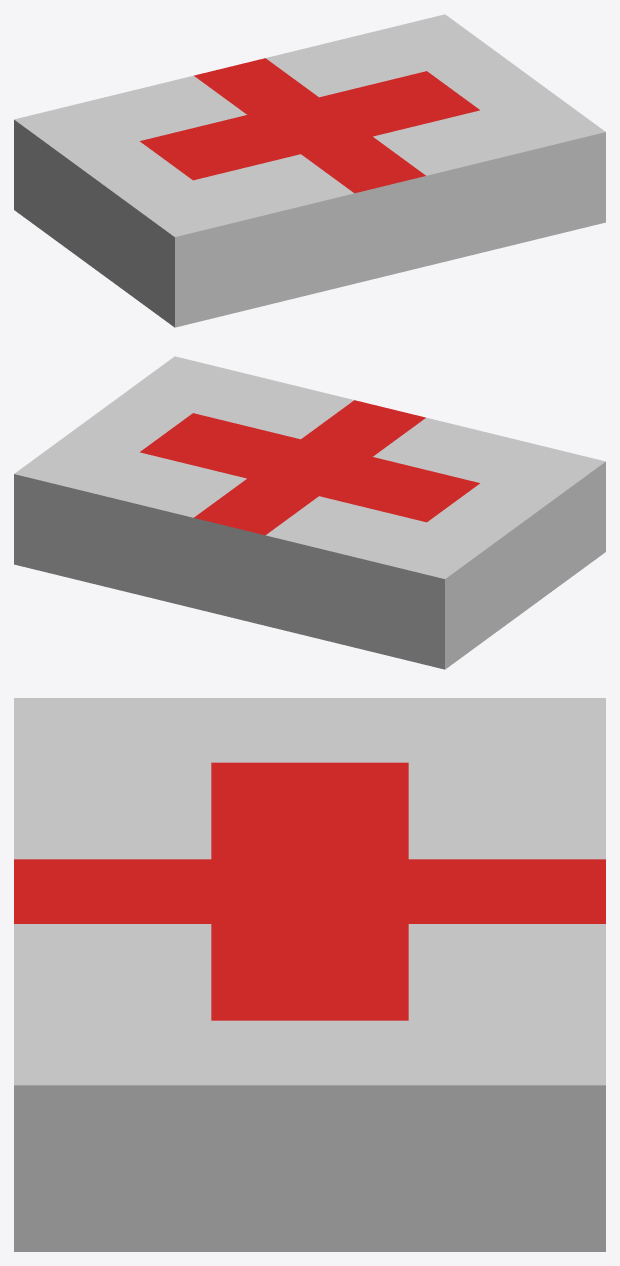
File: Medkit.glb
3 views of the same model, one above another, from view 1: azimuth 30°, elevation 25°; view 2: azimuth 150°, elevation 25°; view 3: azimuth 270°, elevation 25° (orthographic). The views are drawn at different scales.
Parts seen in each view (by area): view 1: Cube; view 2: Cube; view 3: Cube.
Part boxes in pixels (x1=…): Cube: x1=14, y1=14, x2=605, y2=327; Cube: x1=14, y1=356, x2=605, y2=669; Cube: x1=14, y1=698, x2=605, y2=1251.
Size of the model in its own units: 1.39 by 0.2783 by 0.8966.
